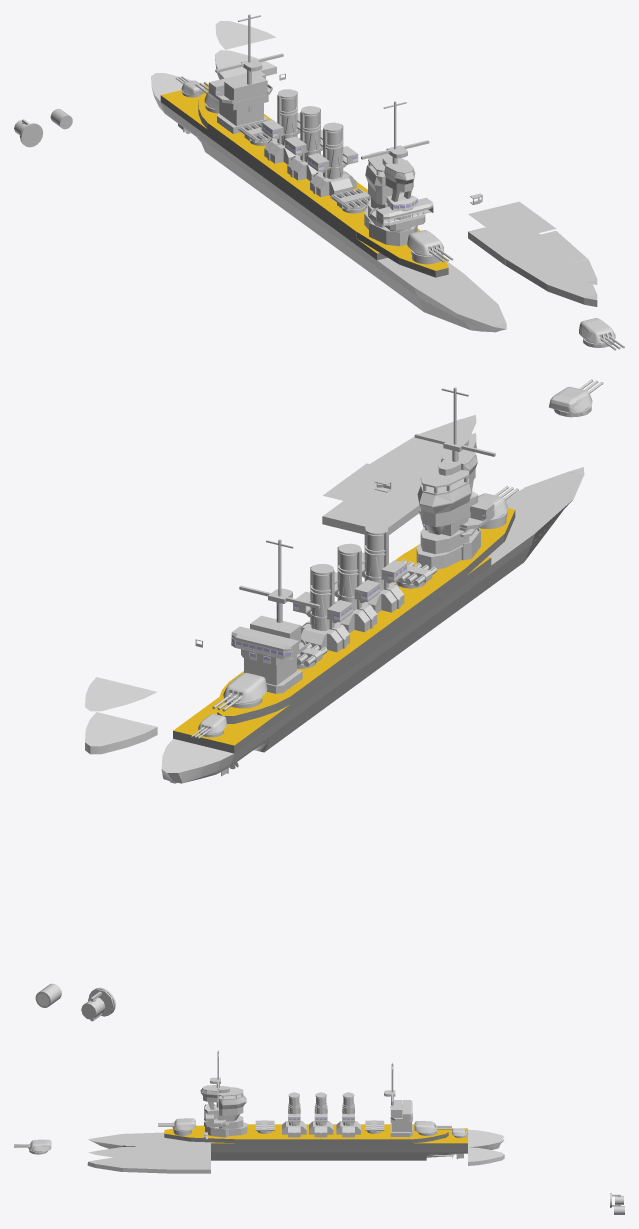
Rendered from scraft_ship_1.FBX.
3 views of the same model, one above another, from view 1: azimuth 30°, elevation 25°; view 2: azimuth 150°, elevation 25°; view 3: azimuth 270°, elevation 25° (orthographic). The views are drawn at different scales.
Visible parts, largest first — view 1: Box006, Box285, Box284, Box008, Box029, Box030, Box062, Box047, Box033, Box001, Small Turret, Small Turret001 (+14 smaller); view 2: Box285, Box030, Box033, Box006, Box284, Line003, Box047, Line006, Small Turret002, Small Turret, Box165, Box008 (+9 smaller); view 3: Box285, Box030, Box284, Box029, Box047, Box006, Box165, Box052, Box162, Box033, Box048, Box049 (+16 smaller).
Part boxes in pixels (<box>): Box006: <box>414,275,496,321</box>; Box285: <box>468,201,556,241</box>; Box284: <box>505,231,587,268</box>; Box008: <box>377,258,465,296</box>; Box029: <box>505,254,573,290</box>; Box030: <box>468,227,540,264</box>; Box062: <box>224,73,267,102</box>; Box047: <box>319,192,367,238</box>; Box033: <box>160,83,208,128</box>; Box001: <box>457,303,506,331</box>; Small Turret: <box>579,318,615,347</box>; Small Turret001: <box>407,230,443,259</box>; Box285: <box>323,463,421,510</box>; Box030: <box>322,494,420,534</box>; Box033: <box>173,704,274,753</box>; Box006: <box>505,487,572,543</box>; Box284: <box>370,436,452,476</box>; Line003: <box>167,746,233,782</box>; Box047: <box>393,552,466,607</box>; Line006: <box>90,719,157,754</box>; Small Turret002: <box>223,672,267,708</box>; Small Turret: <box>549,386,592,417</box>; Box165: <box>319,630,378,671</box>; Box008: <box>488,527,535,575</box>; Box285: <box>166,1144,210,1159</box>; Box030: <box>166,1159,210,1173</box>; Box284: <box>122,1145,166,1160</box>; Box029: <box>122,1158,166,1173</box>; Box047: <box>235,1124,279,1143</box>; Box006: <box>122,1132,166,1146</box>; Box165: <box>324,1124,367,1143</box>; Box052: <box>368,1124,411,1143</box>; Box162: <box>279,1124,323,1143</box>; Box033: <box>431,1128,467,1147</box>; Box048: <box>191,1125,235,1143</box>; Box049: <box>343,1152,387,1160</box>.
Size of the model in its own units: 638 by 1049 by 3512.
